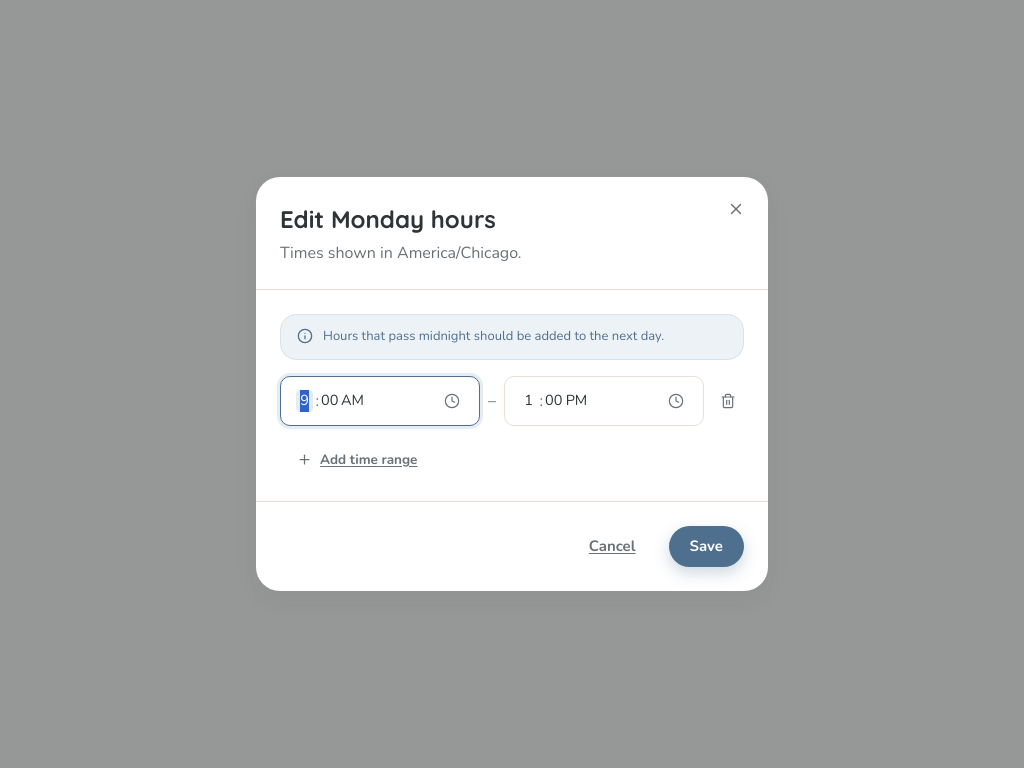
Test: DayHoursModal — client-side structural validation (from<to only, never overlap) › start-after-end shows an inline row error, disables Save, and never mutates
Replace the text in the field named "Range 1 from hour" with "1" at (305, 401), box [296,390,313,412]
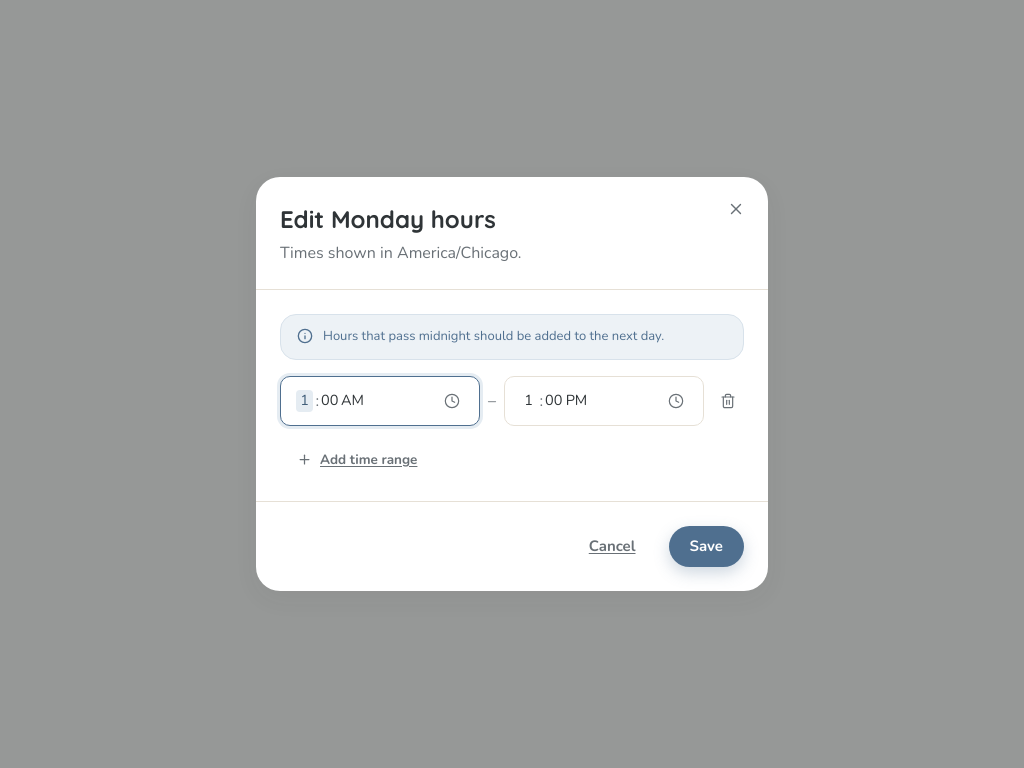
Click the field named "Range 1 from AM/PM" at (352, 401), box [340,390,364,412]
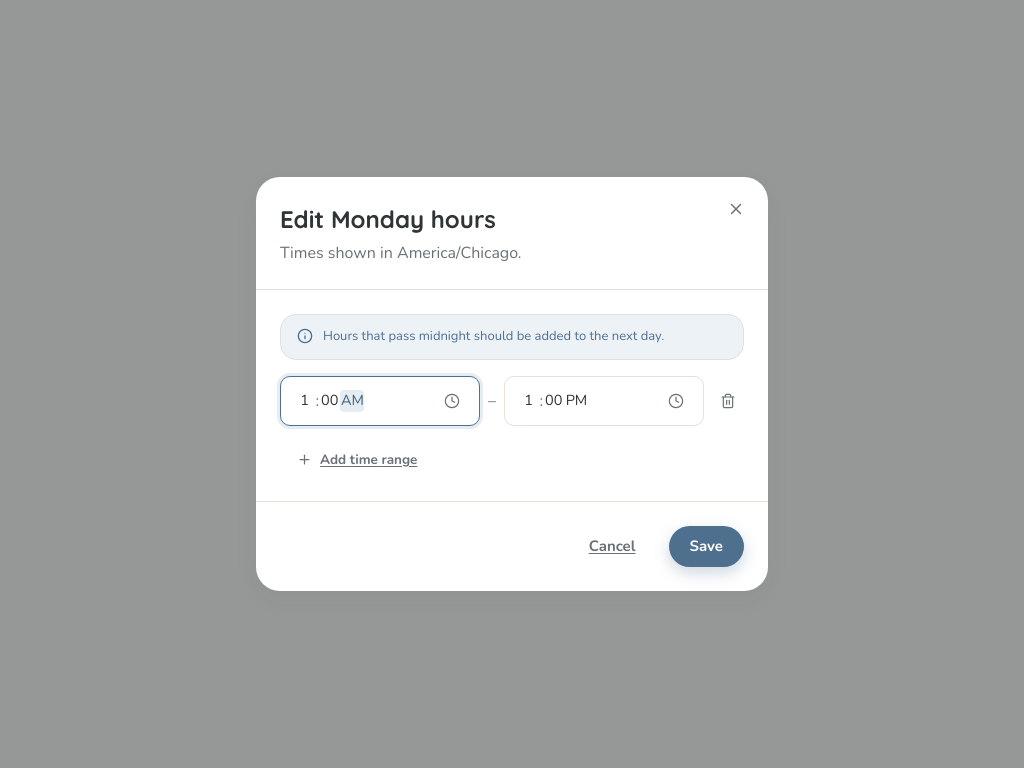
Type keys "p"
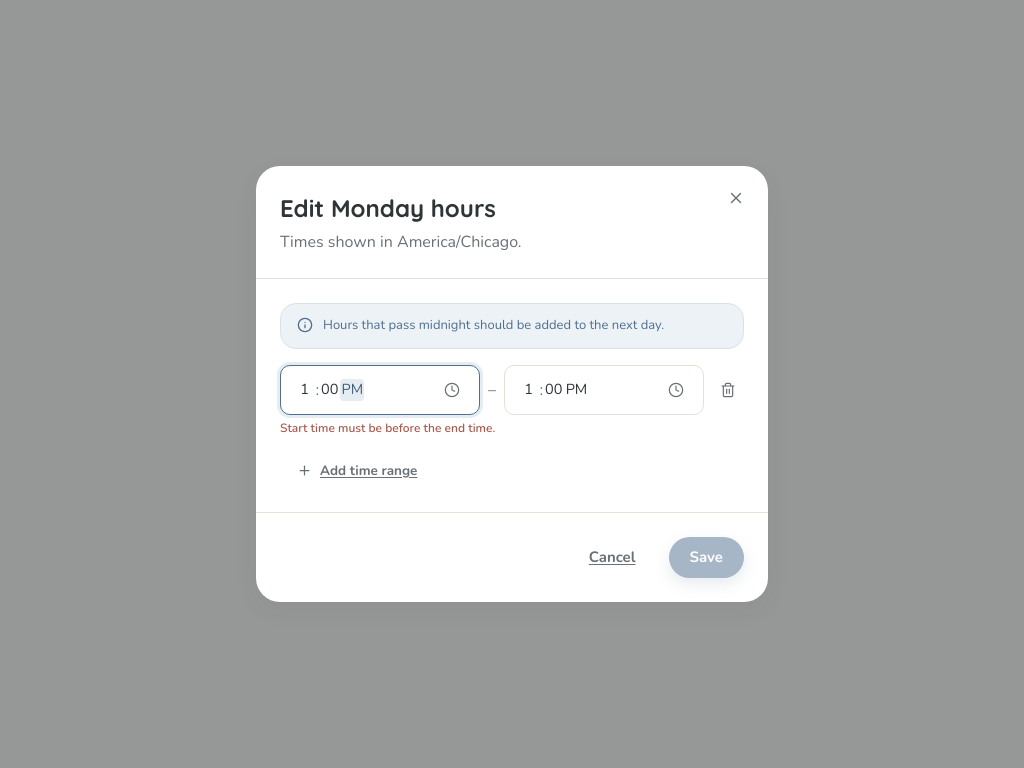
Now the text "Start time must be before the end time." is shown, box [280,420,495,436]
Now the button "Save" is disabled, box [668,537,744,578]
